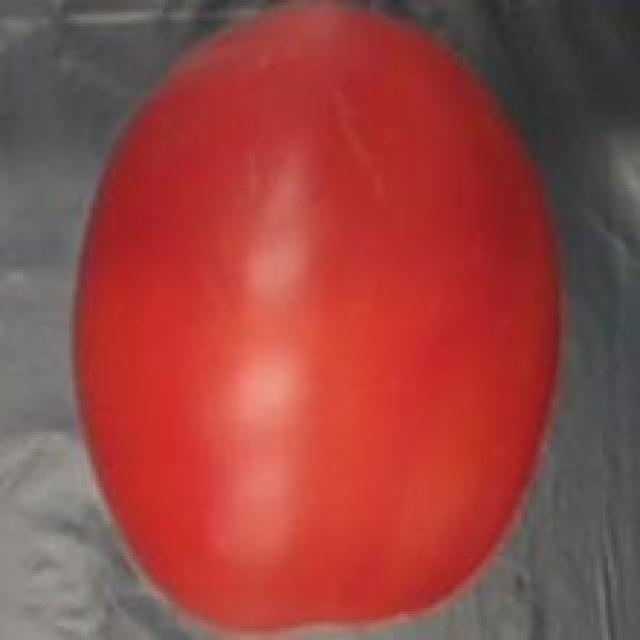ripe tomato: (61, 0, 579, 640)
